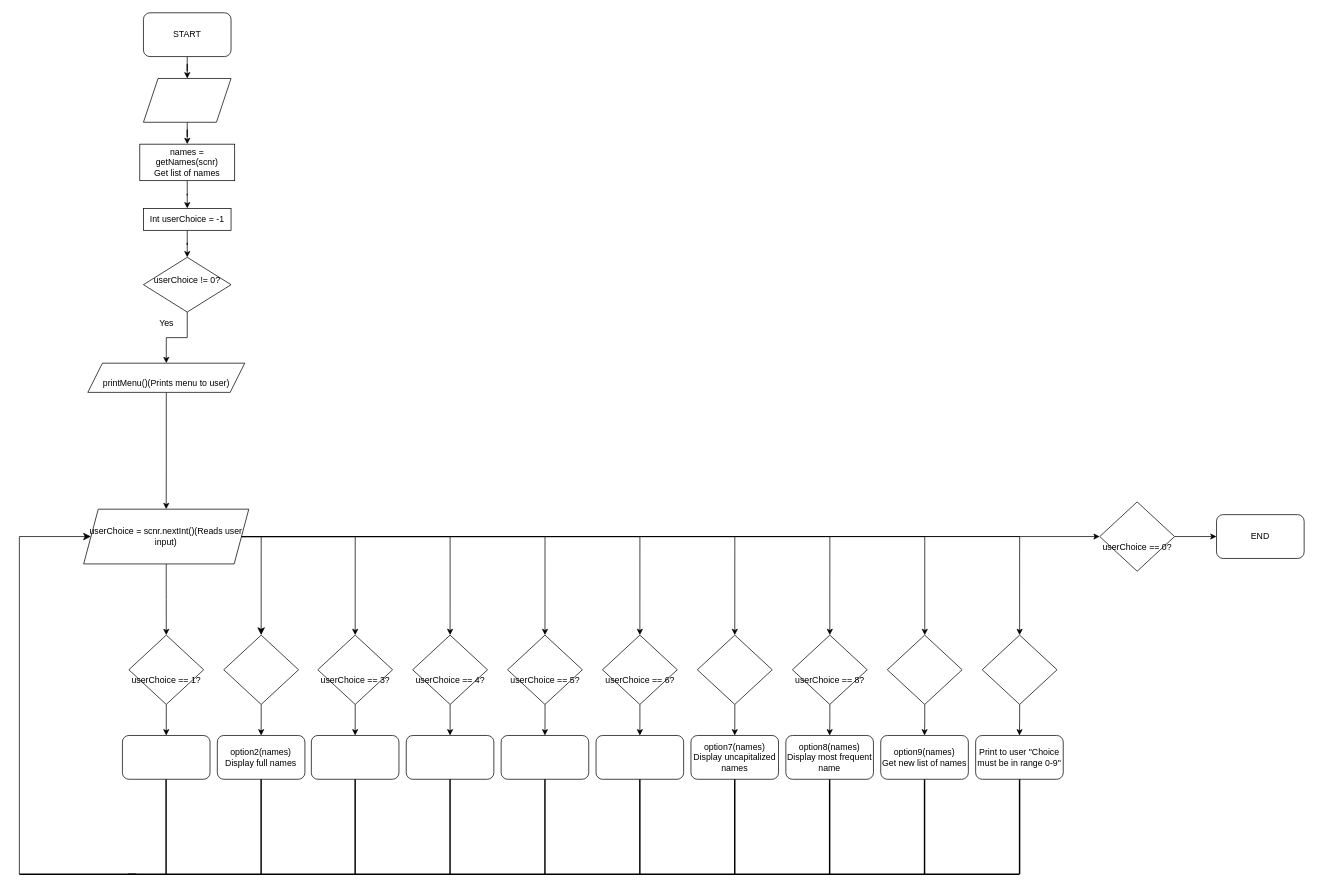
Some shapes in this 1317 by 894 pixel diagram are drawn without their labels. The centre of each missing label's shape, as x and y in pixels:
Create Scanner scnr: the point at 187,100
option1(names) Display list ordered: the point at 166,757
option3(names) Display single names: the point at 355,757
option4(names) Display name stats: the point at 450,757
option5(names) Display even names: the point at 544,757
option6(names) Display odd names: the point at 639,757
userChoice != (0-9)?: the point at 1019,669
userChoice == 2?: the point at 261,669
userChoice == 7?: the point at 734,669
userChoice == 9?: the point at 924,669
